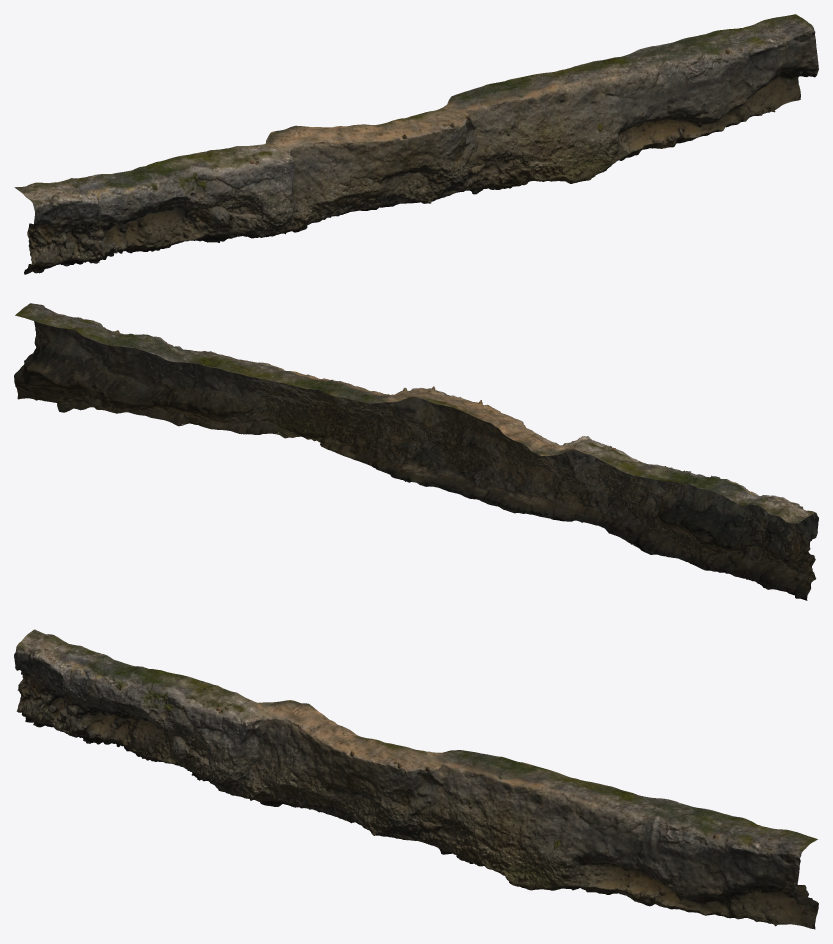
The model's file is cliff1.glb.
3 renders of one model, top to bottom at view 1: azimuth 30°, elevation 25°; view 2: azimuth 150°, elevation 25°; view 3: azimuth 330°, elevation 25°, orthographic. The views are drawn at different scales.
Visible parts, largest first — view 1: coastal_cliff_01; view 2: coastal_cliff_01; view 3: coastal_cliff_01.
Boxes of the visible parts, <box> form: coastal_cliff_01: <box>14,14,818,274</box>; coastal_cliff_01: <box>14,303,818,600</box>; coastal_cliff_01: <box>14,629,818,929</box>.
Bounding box in the file's own units: 91.98 × 10.32 × 10.96.
1 material, 1 textured.
